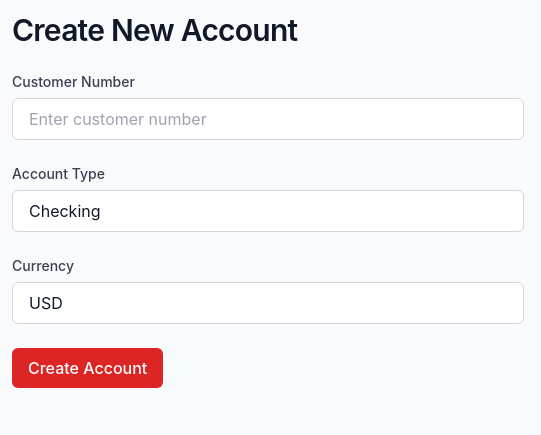
Test case: CreateAccountForm Integration › should display validation errors for empty fields
Click the button "Create Account": (88, 368) [12,348,163,388]
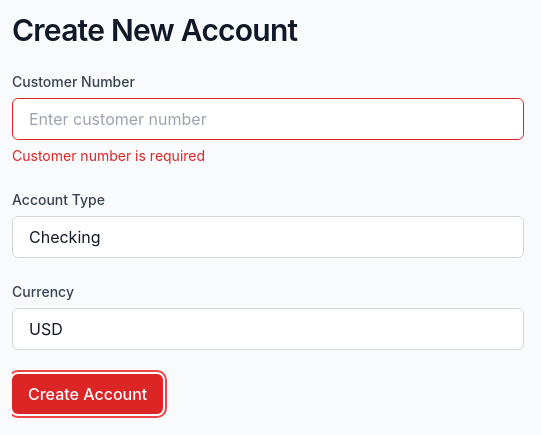
Now the text "Customer number is required" is shown, box [12,147,205,164]
